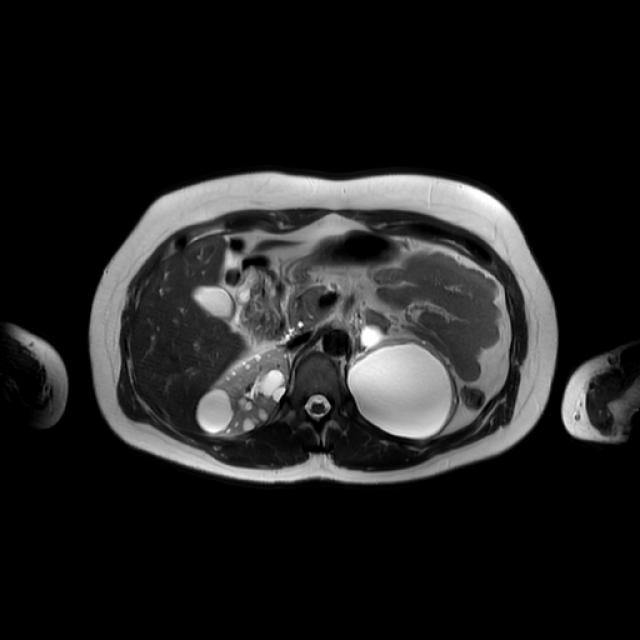sag: (198, 347, 292, 436)
sol: (350, 322, 459, 440)
